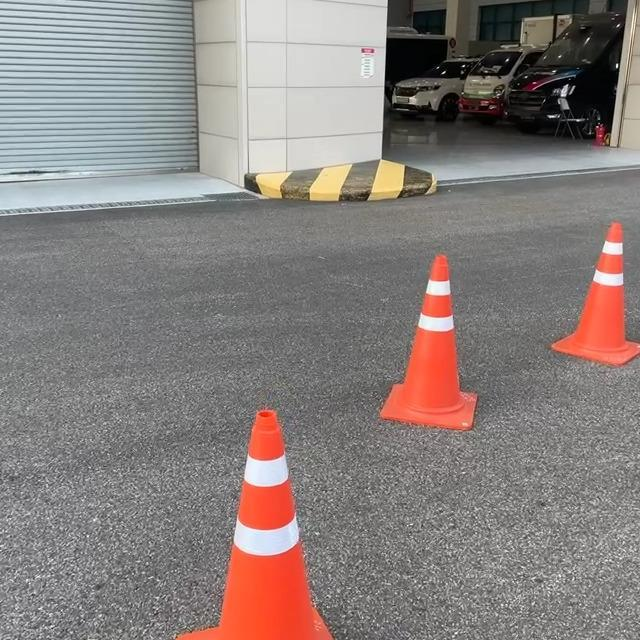fallen_object: (183, 340, 355, 640), (335, 250, 504, 494), (550, 209, 640, 415)
